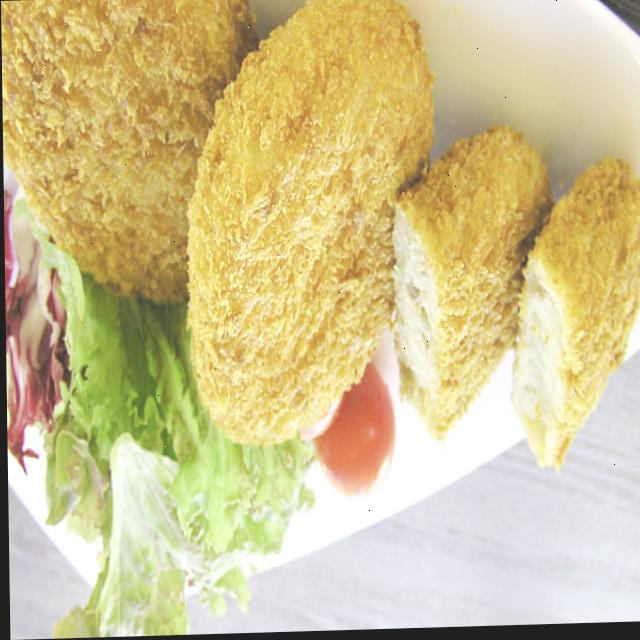炸货点心: (184, 0, 451, 458)
